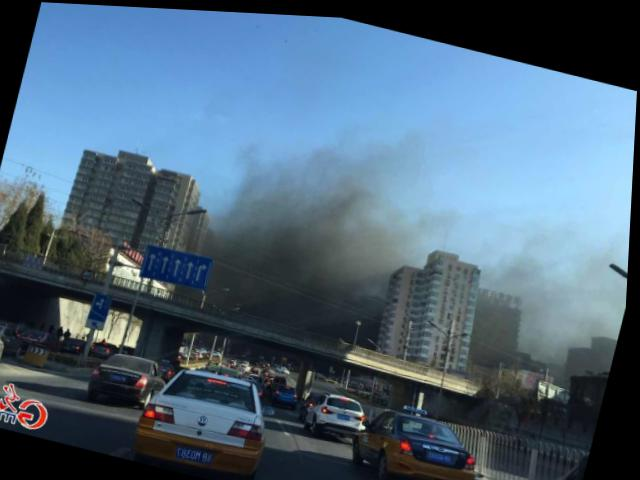smoke: (216, 155, 322, 284), (302, 201, 400, 285), (236, 275, 290, 306)
